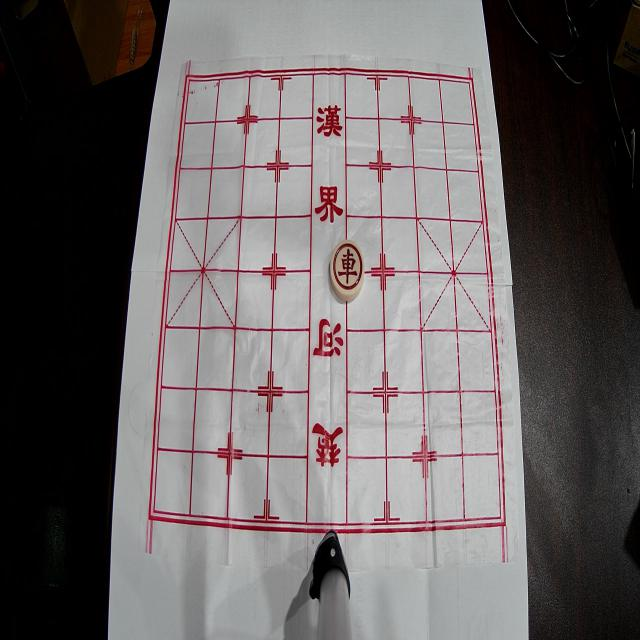red-chariot: (330, 239, 365, 301)
